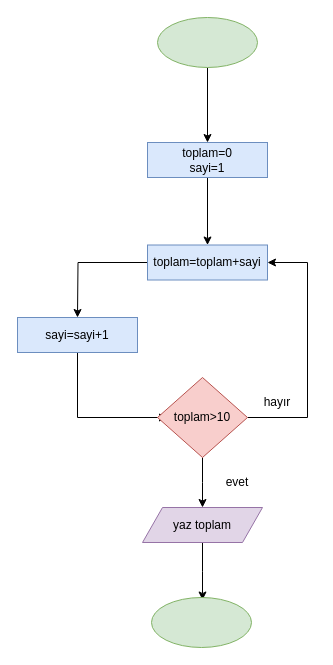
This 333x665 diagram has some shape labels left out. The box of each missing label's shape, as (x1, y1, x2, y2) in pixels:
BAŞLA: (156, 16, 258, 68)
DUR: (150, 596, 252, 648)
